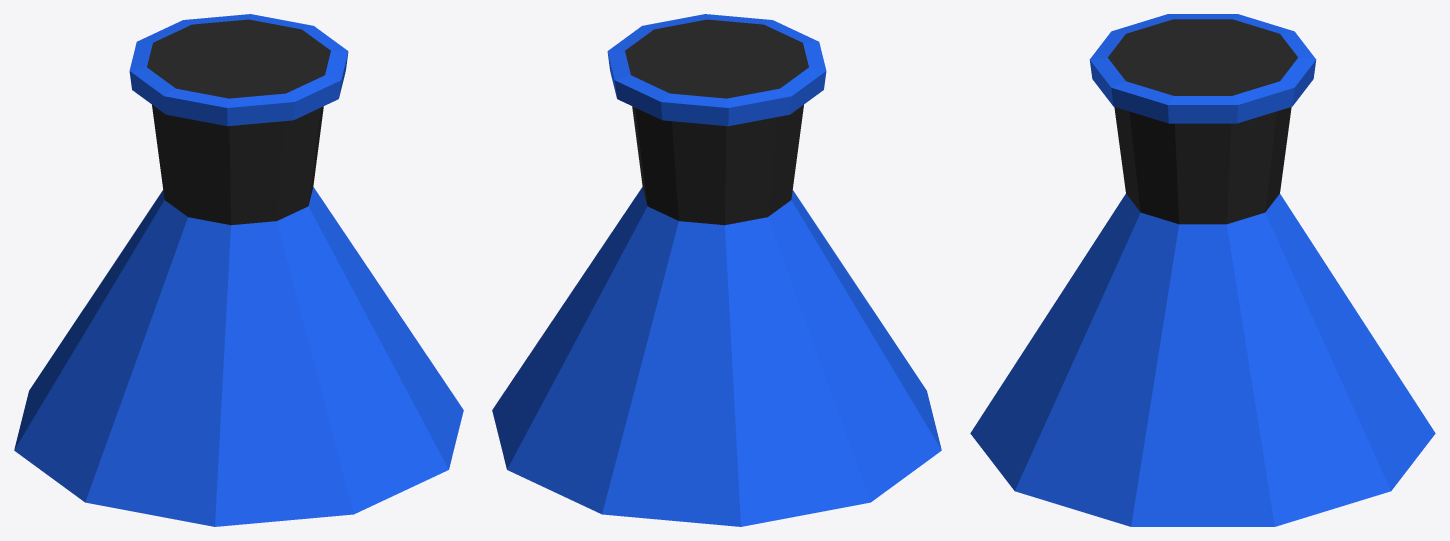
Rendered from blue flask.fbx.
3 views of the same model, side by side, from view 1: azimuth 30°, elevation 25°; view 2: azimuth 150°, elevation 25°; view 3: azimuth 270°, elevation 25° (orthographic).
Parts seen in each view (by area): view 1: blue flask; view 2: blue flask; view 3: blue flask.
Part boxes in pixels (box(x1,y1,x2,y2)): blue flask: box(14, 14, 463, 526); blue flask: box(492, 14, 941, 526); blue flask: box(970, 14, 1435, 526).
Bounding box in the file's own units: 190 × 178 × 200.
